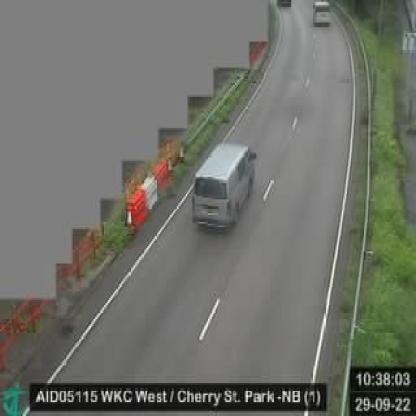Car: (188, 139, 264, 234), (311, 0, 333, 35)
